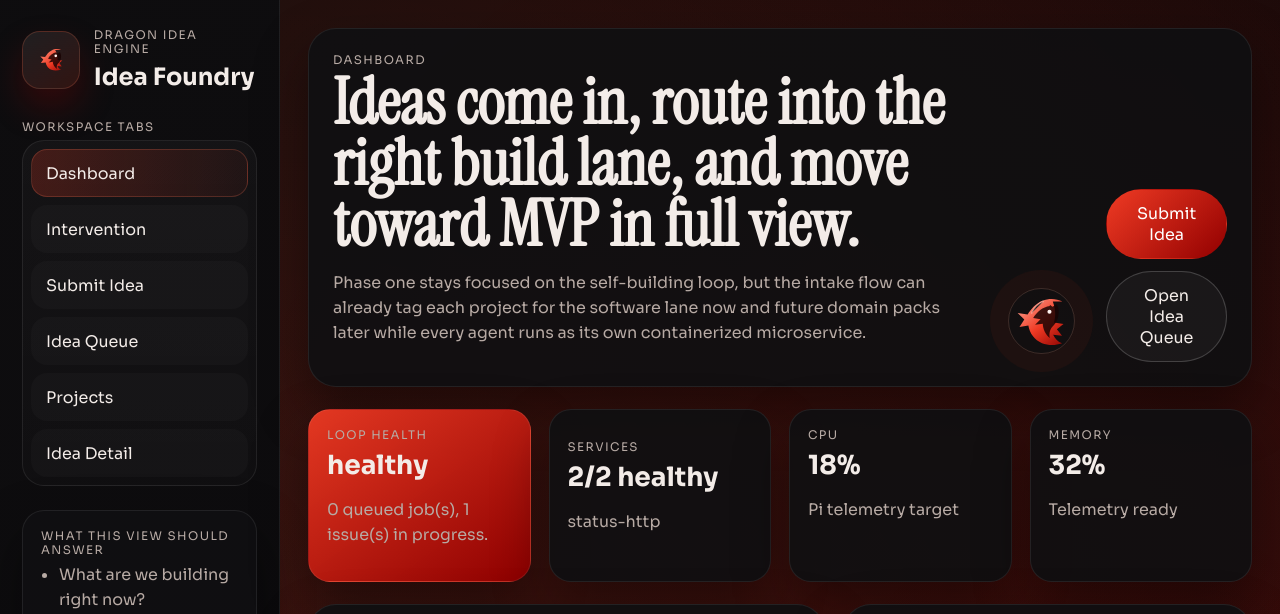
Test case: React dashboard › opens idea detail from the queue and switches detail tabs
Expected: the heading "Ideas come in, route into the right build lane" is shown, [333,61,944,266]
What coordinates should you click on to do the following:
click the button "Idea Queue"
I would click on:
 (140, 341)
Its box is [31,317,248,365].
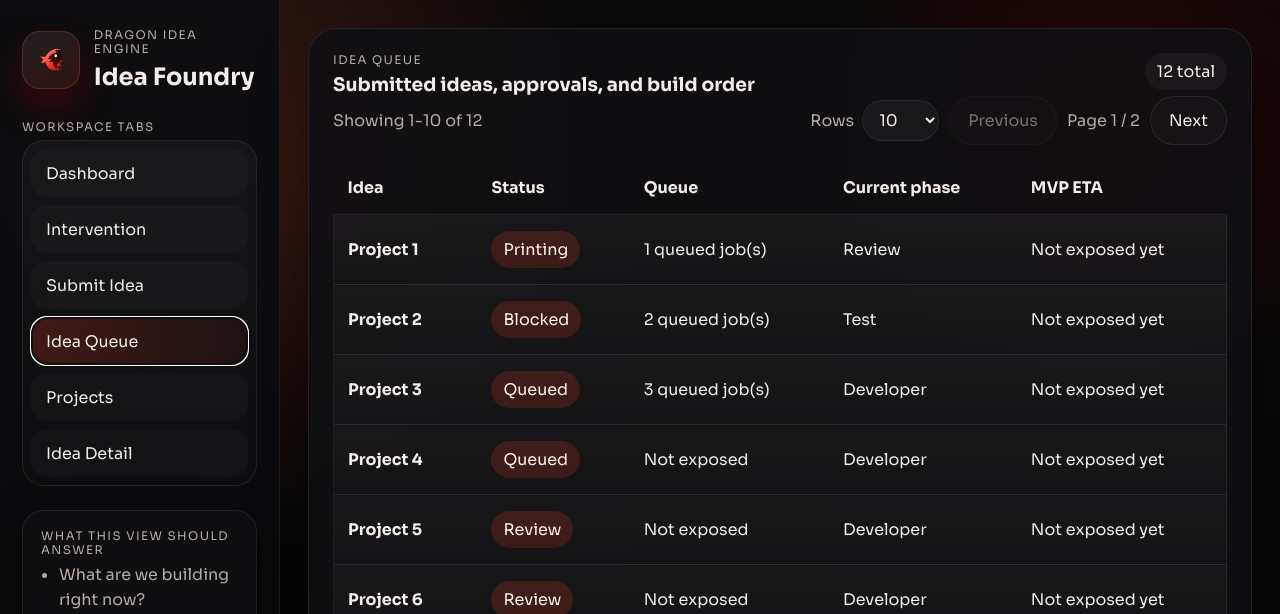
What coordinates should you click on to do the following:
click the text "Project 1"
I would click on:
 (780, 250)
Its box is [334,214,1226,284].
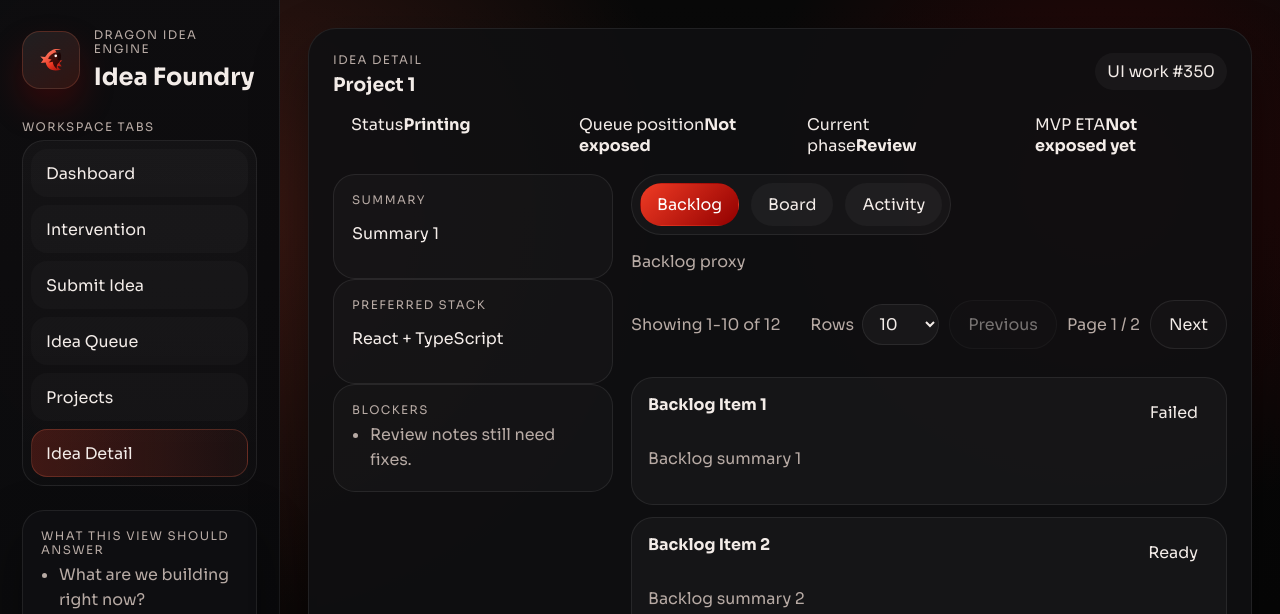
Expected: the heading "Project 1" is shown, [333,73,422,96]
Expected: the list item "Review notes still need fixes." is shown, [370,424,555,470]
What coordinates should you click on to do the following:
click the button "Board"
I would click on:
 (792, 204)
Its box is [751,183,833,226].
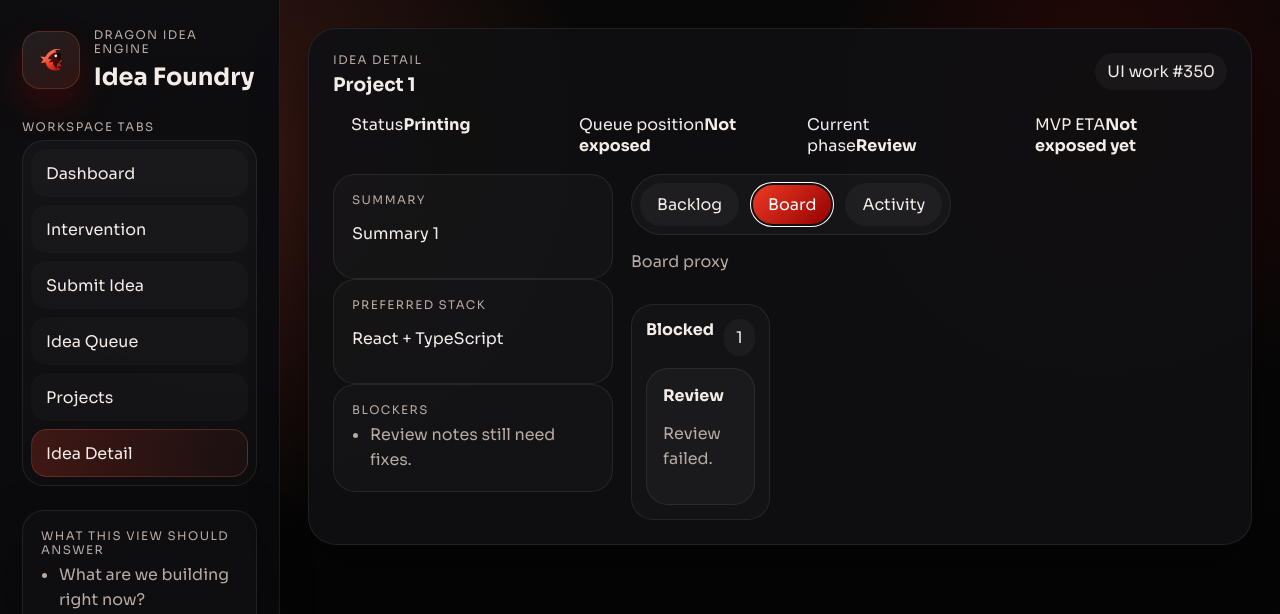
Expected: the text "Blocked" is shown, [646,319,714,340]
